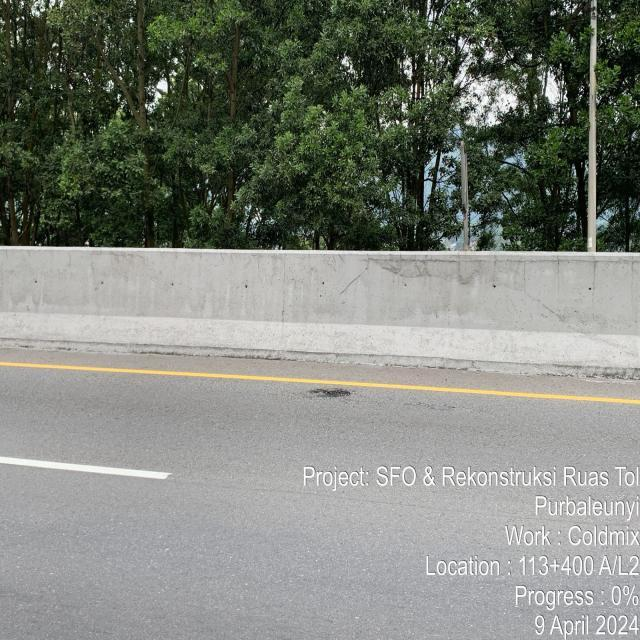Buraco: (300, 386, 355, 401)
